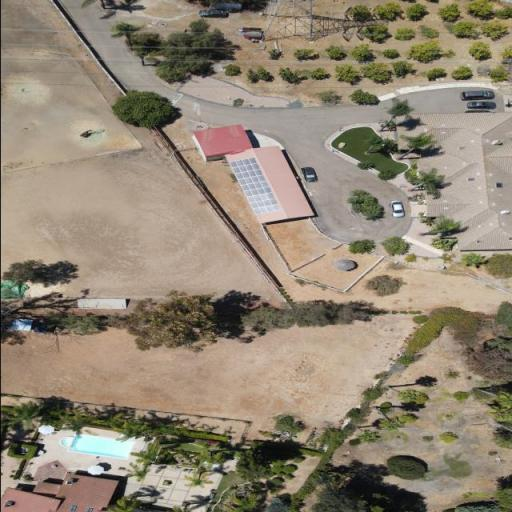solar-panel: (228, 157, 280, 215)
